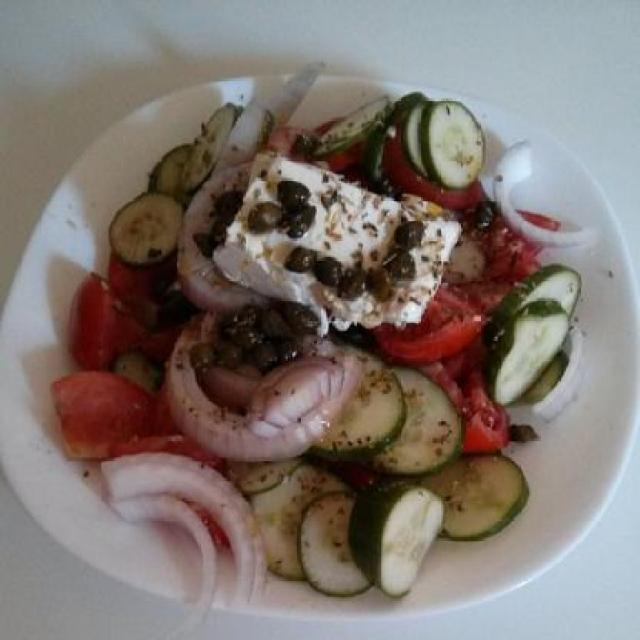Salad: (52, 57, 580, 634)
